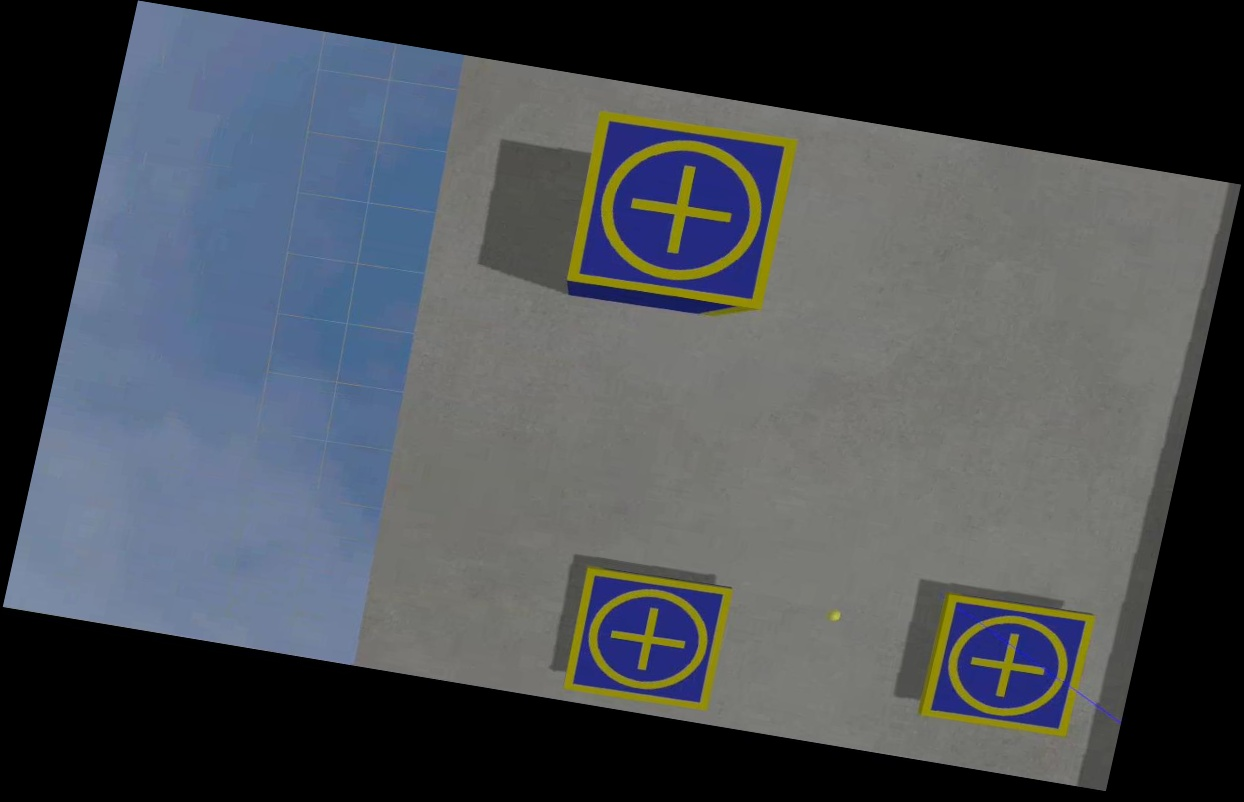small_base: (561, 106, 804, 316), (917, 589, 1096, 741), (559, 562, 735, 713)
